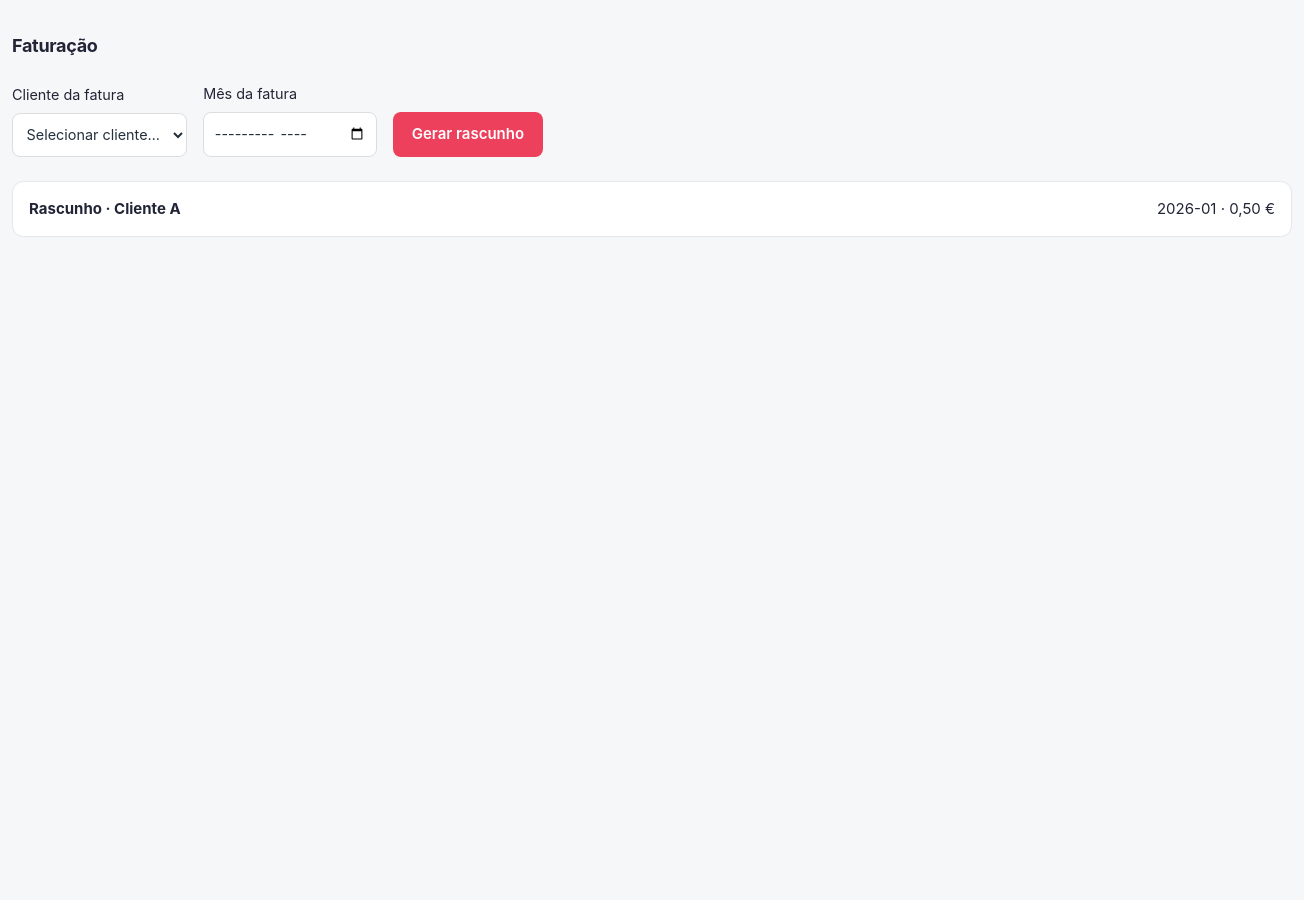
Test: uma resposta perdida permite repetir a mesma confirmação de emissão
Click the button "Rascunho · Cliente A 2026-01 · 0,50 €": {"x": 65, "y": 208} [12,181,1292,237]
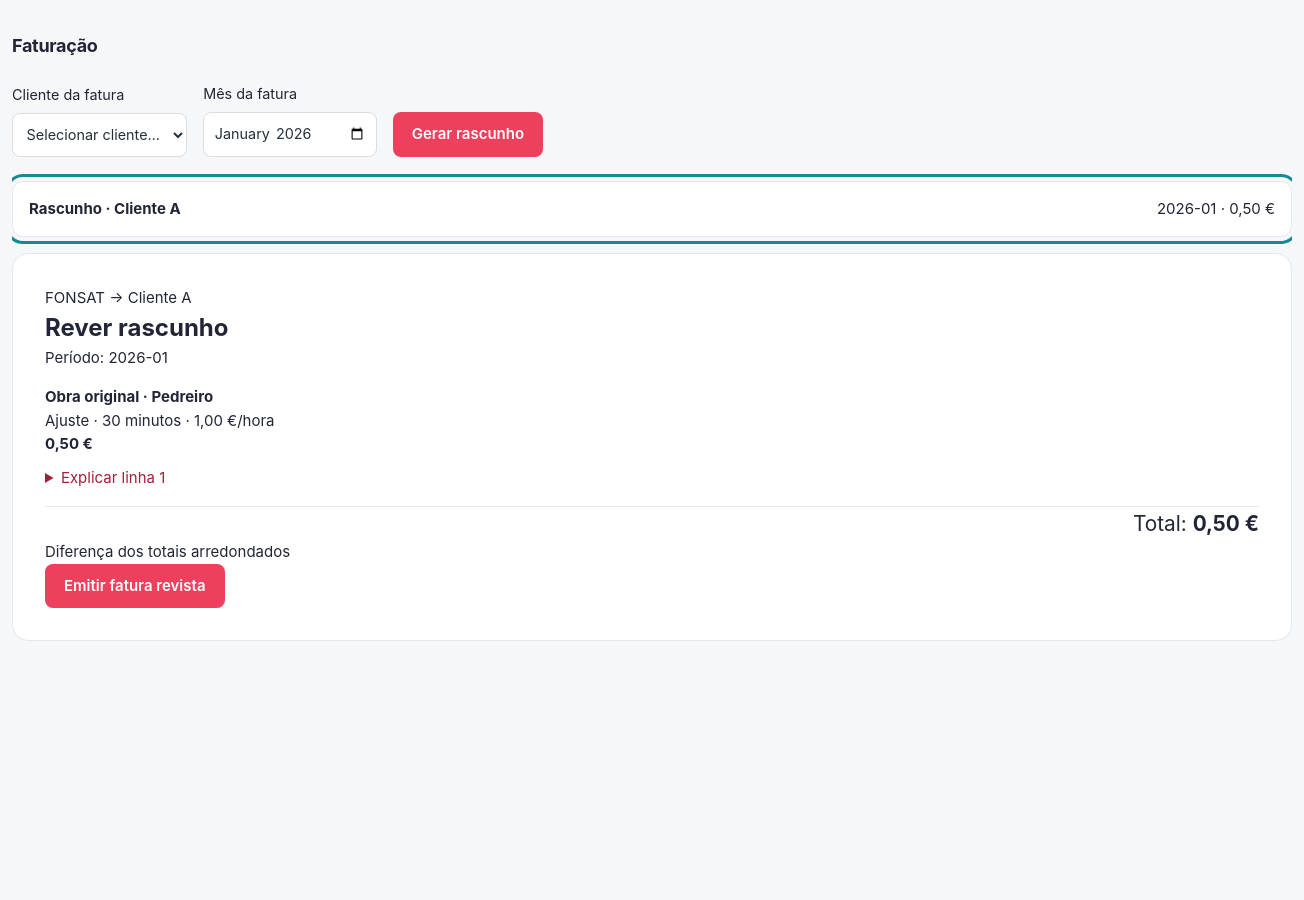
Click the button "Emitir fatura revista": {"x": 135, "y": 586} [45,564,224,608]
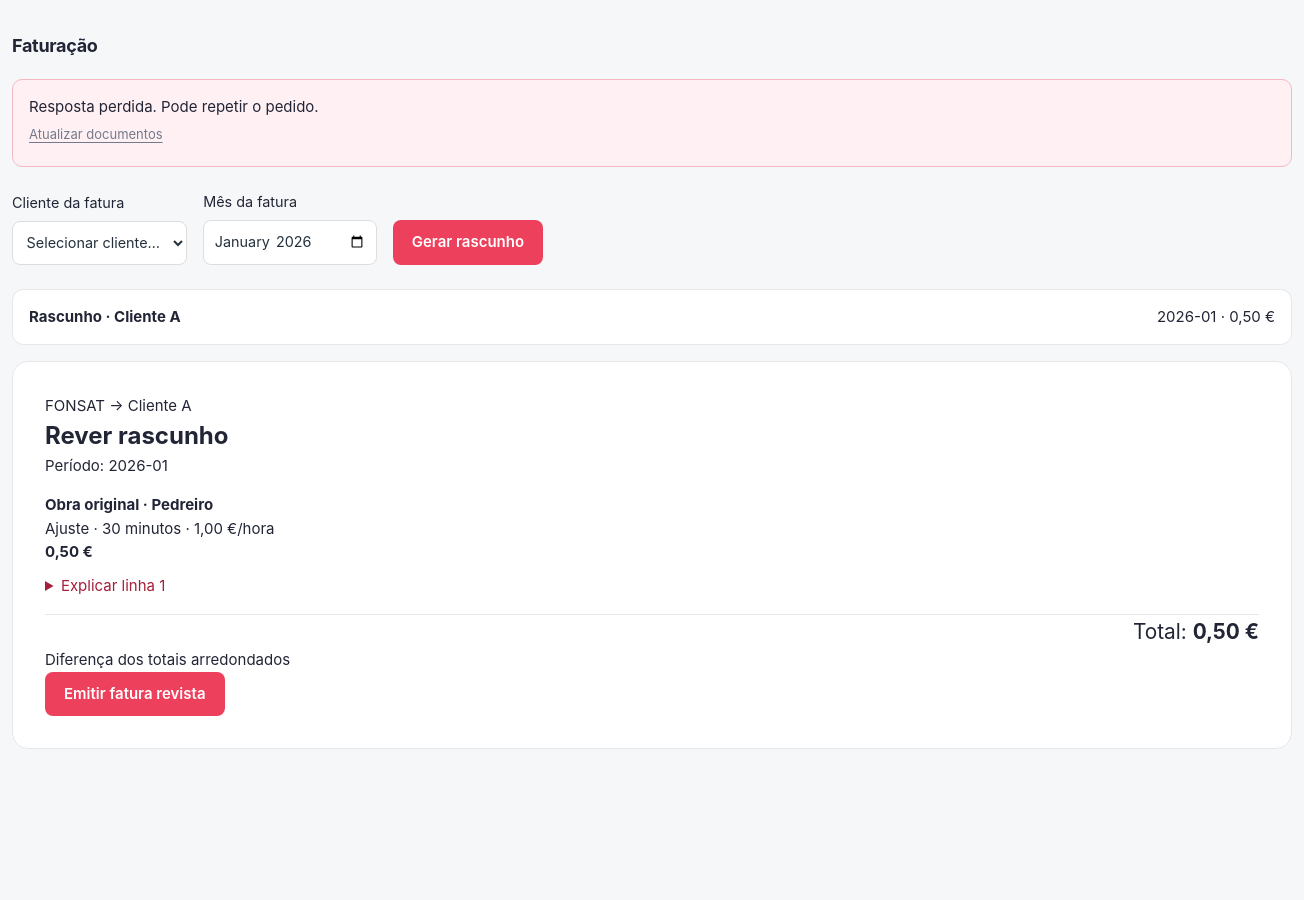
Check: the message shows "Resposta perdida", box [29,97,319,116]
Click the button "Emitir fatura revista": {"x": 135, "y": 694} [45,672,224,716]
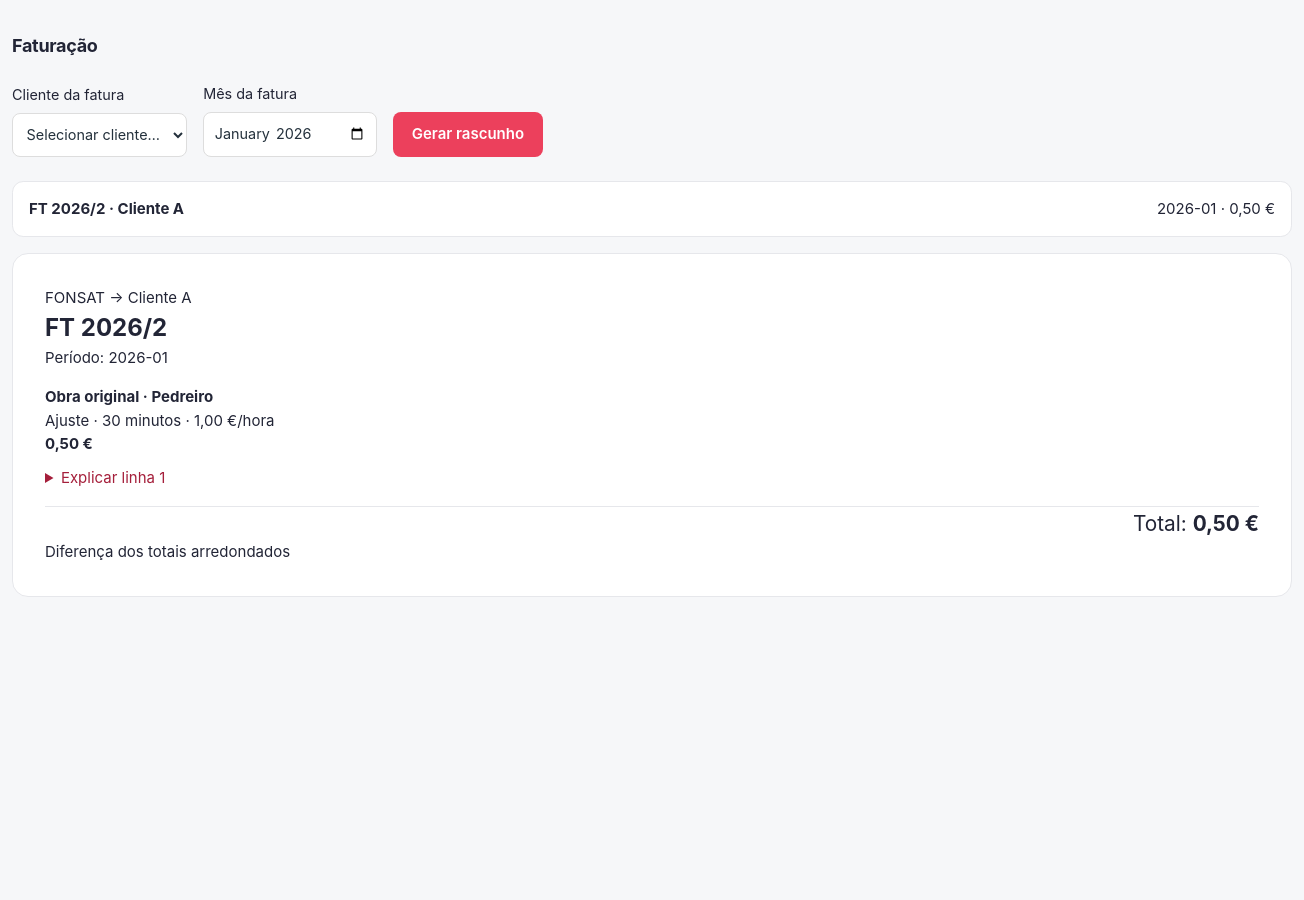
Check: the heading "FT 2026/2" is shown, box [45,313,167,342]
